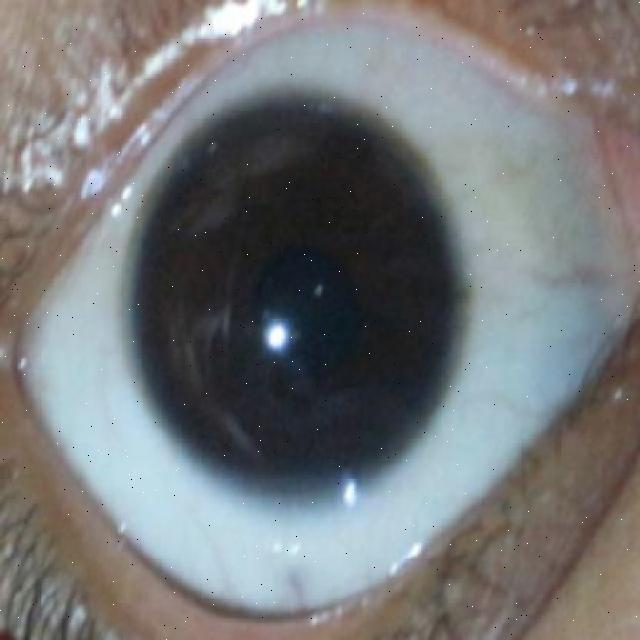Normal: (131, 103, 466, 507)
